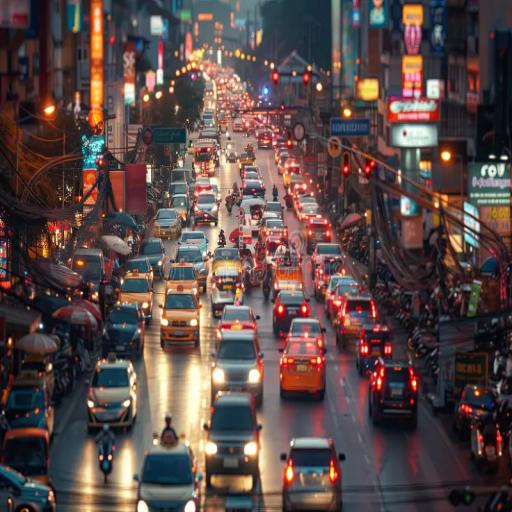car: (132, 433, 202, 511), (86, 351, 144, 445), (362, 354, 427, 437), (211, 325, 271, 414), (279, 436, 346, 511), (6, 366, 64, 439), (0, 451, 60, 512), (4, 423, 61, 481), (275, 340, 330, 400), (336, 290, 384, 351), (452, 377, 499, 436), (158, 292, 203, 350), (270, 280, 318, 332), (210, 256, 250, 315), (117, 269, 156, 328), (354, 323, 400, 366), (173, 237, 210, 290), (326, 268, 360, 321), (152, 200, 186, 242), (142, 230, 168, 280), (313, 236, 342, 277), (194, 186, 222, 228), (192, 142, 222, 180), (305, 211, 332, 252), (167, 172, 194, 210), (243, 172, 269, 201), (198, 124, 223, 150), (228, 115, 251, 143), (284, 159, 305, 189), (256, 128, 275, 155)
traffic light: (301, 63, 311, 90), (342, 150, 350, 176), (272, 70, 278, 86)
